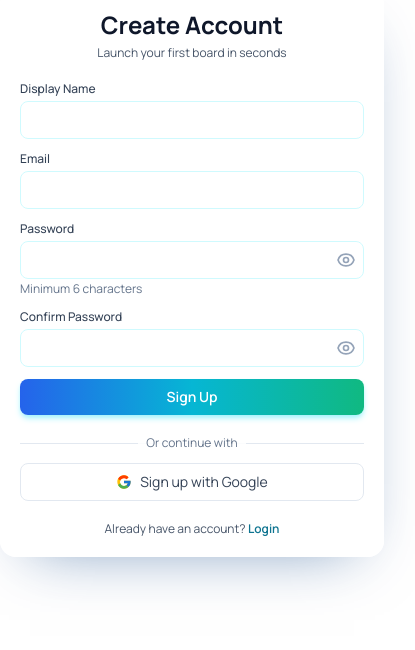
Test: SignupForm › displays error message on signup failure
The image size is (415, 650).
In the field labelled "Display Name": (192, 120) x1=20 y1=101 x2=364 y2=139, type "John Doe"
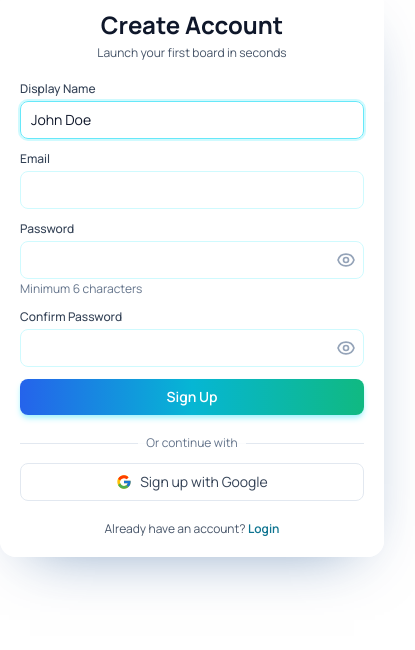
In the field labelled "Email": (192, 190) x1=20 y1=171 x2=364 y2=209, type "john@example.com"
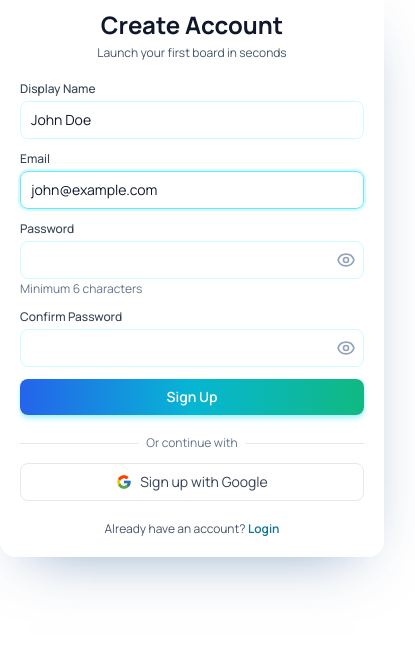
In the password field labelled "Password": (192, 260) x1=20 y1=241 x2=364 y2=279, type "password123"
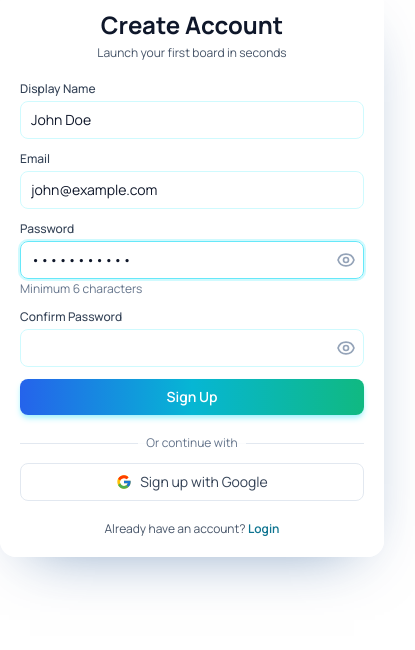
In the password field labelled "Confirm Password": (192, 348) x1=20 y1=329 x2=364 y2=367, type "password123"
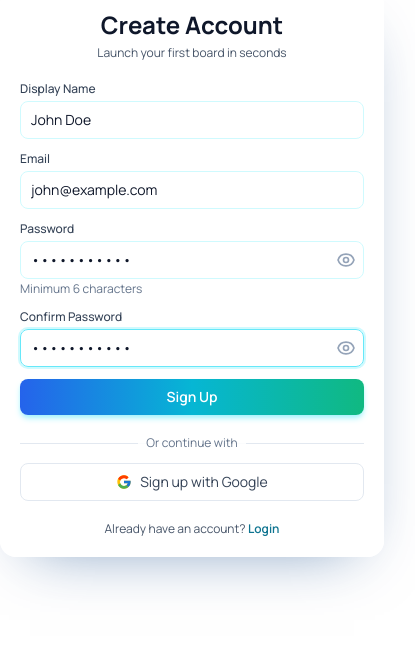
Click the button "Sign Up": (192, 397) x1=20 y1=379 x2=364 y2=415
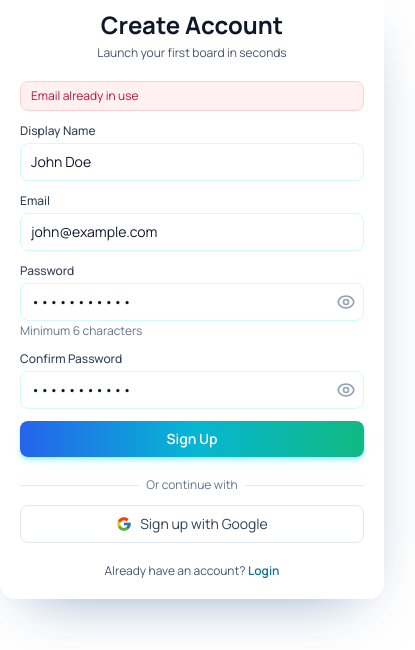
Check: the message reads "Email already in use", box x1=31 y1=87 x2=138 y2=104
